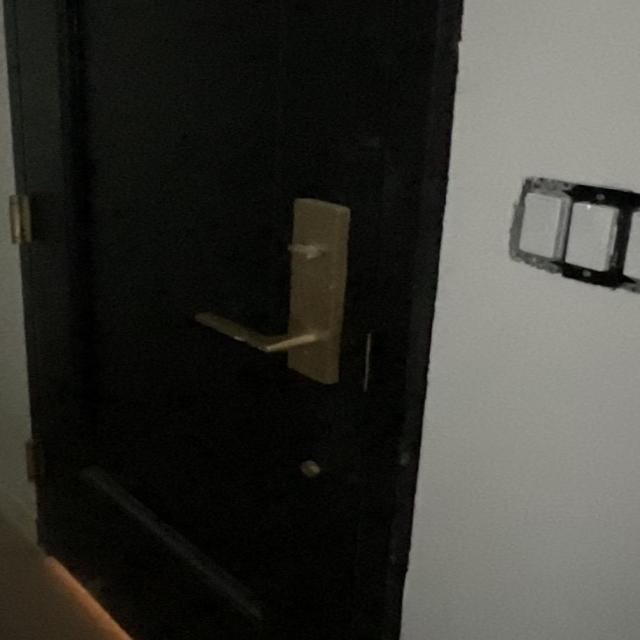door_handle: (187, 301, 373, 378)
